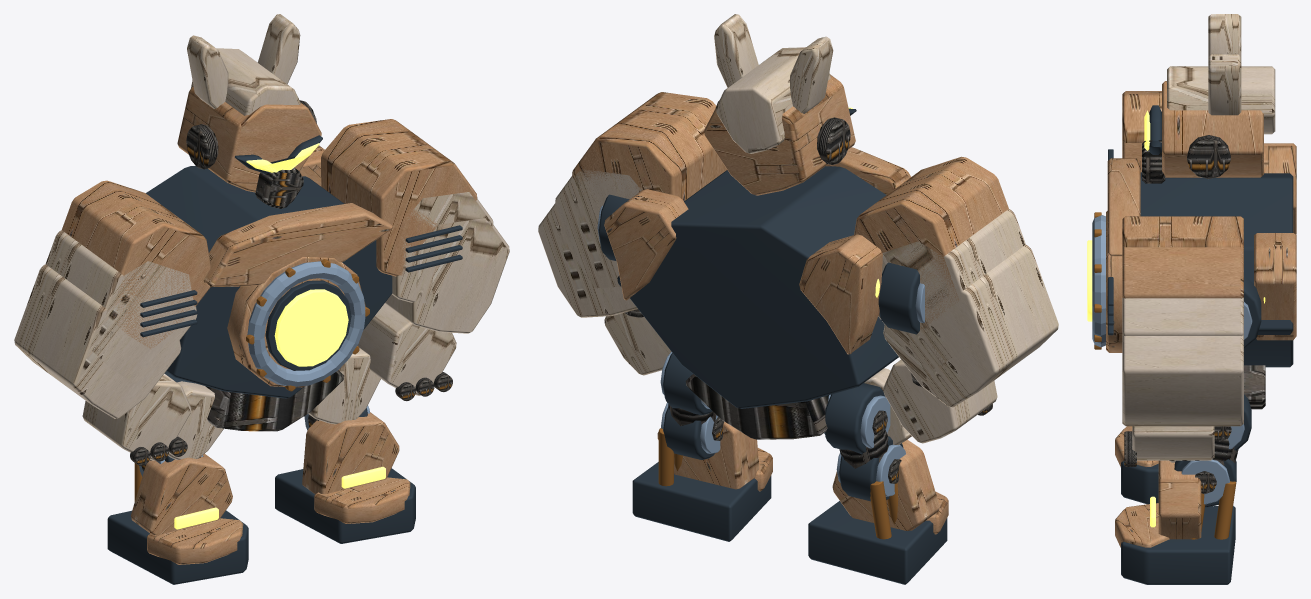
The model's file is heavy.glb.
The picture shows the model from 3 angles, left to right: view 1: azimuth 30°, elevation 25°; view 2: azimuth 150°, elevation 25°; view 3: azimuth 270°, elevation 25°; orthographic projection. The views are drawn at different scales.
Visible parts, largest first — view 1: Navy crown, Upper chest plating, Reinforced heavy torso, Greave armor, Face guard, Greave armor.001, Reactor concentric ring, Reactor lens, Servo housing.001, Servo housing.004, Tapered thigh shield.001, Tapered thigh shield; view 2: Navy crown, Reinforced heavy torso, Upper chest plating, Servo housing.001, Servo housing.004, Face guard, Greave armor, Greave armor.001, Bearing ring.002, Hub.002, Calf piston, Calf piston.002 (+3 smaller); view 3: Upper chest plating, Navy crown, Reinforced heavy torso, Servo housing.004, Greave armor.001, Face guard, Reactor concentric ring, Servo housing.001, Bearing ring.008, Hub.008, Calf piston.002, Reactor lens (+2 smaller).
Boxes of the visible parts, x1=… form: Navy crown: x1=14, y1=14, x2=509, y2=460; Upper chest plating: x1=62, y1=86, x2=477, y2=387; Reinforced heavy torso: x1=140, y1=135, x2=462, y2=398; Greave armor: x1=131, y1=453, x2=243, y2=564; Face guard: x1=130, y1=100, x2=452, y2=465; Greave armor.001: x1=302, y1=412, x2=410, y2=523; Reactor concentric ring: x1=247, y1=261, x2=365, y2=386; Reactor lens: x1=246, y1=143, x2=348, y2=366; Servo housing.001: x1=107, y1=371, x2=248, y2=584; Servo housing.004: x1=275, y1=408, x2=415, y2=543; Tapered thigh shield.001: x1=308, y1=347, x2=380, y2=424; Tapered thigh shield: x1=168, y1=381, x2=223, y2=459; Navy crown: x1=538, y1=14, x2=1058, y2=443; Reinforced heavy torso: x1=598, y1=108, x2=919, y2=408; Upper chest plating: x1=572, y1=74, x2=1008, y2=354; Servo housing.001: x1=808, y1=383, x2=947, y2=584; Servo housing.004: x1=632, y1=353, x2=771, y2=541; Face guard: x1=624, y1=100, x2=992, y2=439; Greave armor: x1=832, y1=439, x2=948, y2=534; Greave armor.001: x1=657, y1=422, x2=772, y2=491; Bearing ring.002: x1=824, y1=394, x2=905, y2=496; Hub.002: x1=839, y1=410, x2=901, y2=483; Calf piston: x1=870, y1=481, x2=898, y2=539; Calf piston.002: x1=658, y1=428, x2=682, y2=486; Upper chest plating: x1=1106, y1=81, x2=1296, y2=352; Navy crown: x1=1122, y1=14, x2=1275, y2=460; Reinforced heavy torso: x1=1108, y1=105, x2=1293, y2=367; Servo housing.004: x1=1121, y1=394, x2=1251, y2=584; Greave armor.001: x1=1115, y1=460, x2=1201, y2=547; Face guard: x1=1124, y1=135, x2=1265, y2=466; Reactor concentric ring: x1=1092, y1=215, x2=1252, y2=347; Servo housing.001: x1=1121, y1=461, x2=1158, y2=504; Bearing ring.008: x1=1181, y1=424, x2=1244, y2=504; Hub.008: x1=1195, y1=426, x2=1238, y2=494; Calf piston.002: x1=1190, y1=481, x2=1236, y2=539; Reactor lens: x1=1087, y1=110, x2=1150, y2=321.
Bounding box in the file's own units: 1.52 × 1.64 × 0.637.
8 materials, 3 textured.
